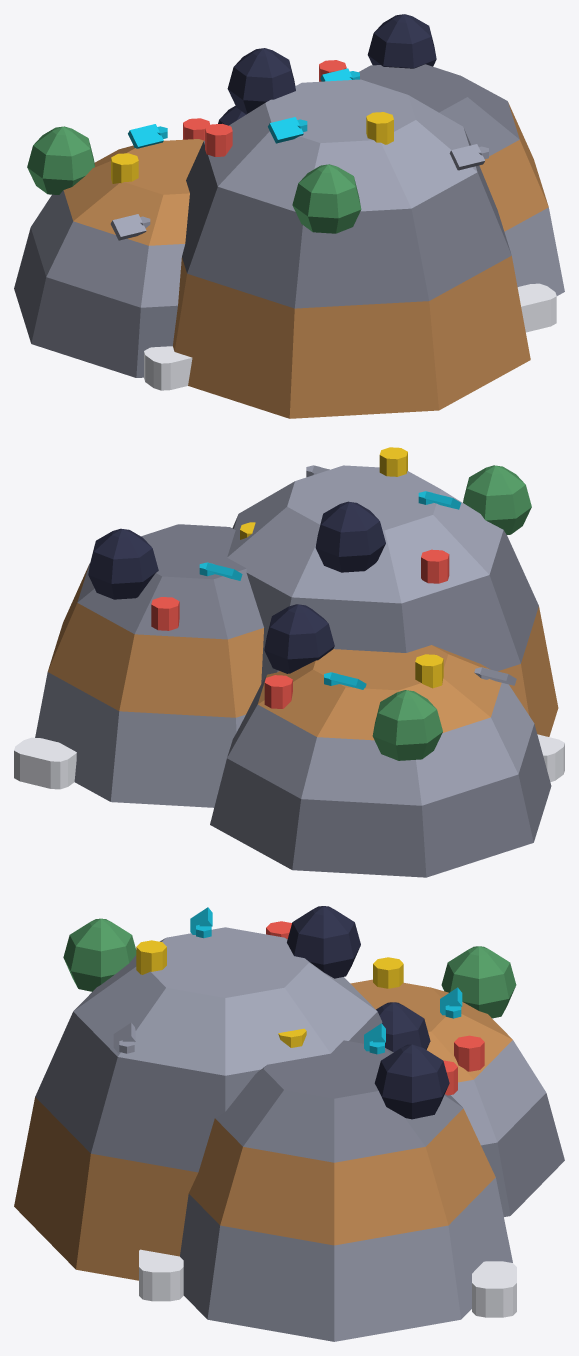
File: mound-1x1-t3.glb
The picture shows the model from 3 angles, top to bottom: view 1: azimuth 30°, elevation 25°; view 2: azimuth 150°, elevation 25°; view 3: azimuth 270°, elevation 25°; orthographic projection. The views are drawn at different scales.
Parts seen in each view (by area): view 1: mound-1x1-t3; view 2: mound-1x1-t3; view 3: mound-1x1-t3.
Boxes of the visible parts, <box> form: mound-1x1-t3: <box>14,14,564,418</box>; mound-1x1-t3: <box>14,447,564,877</box>; mound-1x1-t3: <box>14,906,564,1341</box>.
Size of the model in its own units: 0.96 by 0.489 by 0.86.
1 material, 1 textured.
